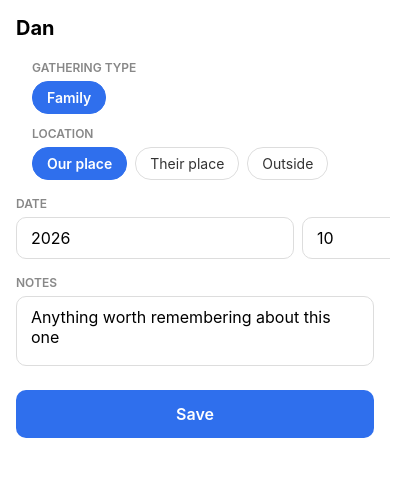
LogGatheringScreen › submit__logGathering_rejects_with_api_error__shows_its_detail
Expected: the text "Dan" is shown, 16,16 -> 54,40
Click the element with test id "log-gathering-submit": (195, 414) 16,390 -> 374,438
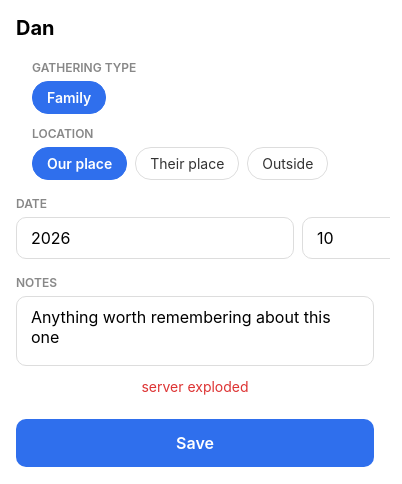
Expected: the text "server exploded" is shown, 141,378 -> 249,395
